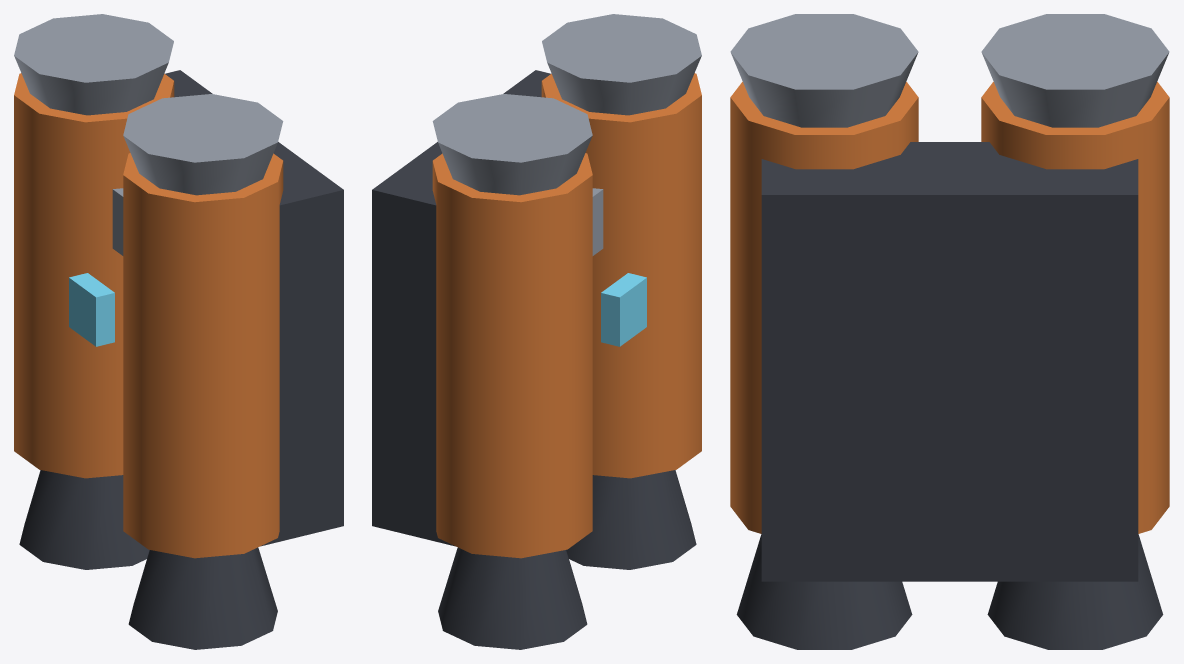
Rendered from jetpack.glb.
3 renders of one model, left to right at view 1: azimuth 30°, elevation 25°; view 2: azimuth 150°, elevation 25°; view 3: azimuth 270°, elevation 25°, orthographic. The views are drawn at different scales.
Visible parts, largest first — view 1: Jetpack, Nozzle (×2); view 2: Jetpack, Nozzle (×2); view 3: Jetpack, Nozzle (×2).
Boxes of the visible parts, x1,y1,x2,y2 form: Jetpack: (14,14,343,558); Nozzle (×2): (19,470,277,649); Jetpack: (372,14,701,558); Nozzle (×2): (438,470,696,649); Jetpack: (730,14,1169,581); Nozzle (×2): (736,534,1163,649).
Size of the model in its own units: 0.1913 by 0.495 by 0.35.
